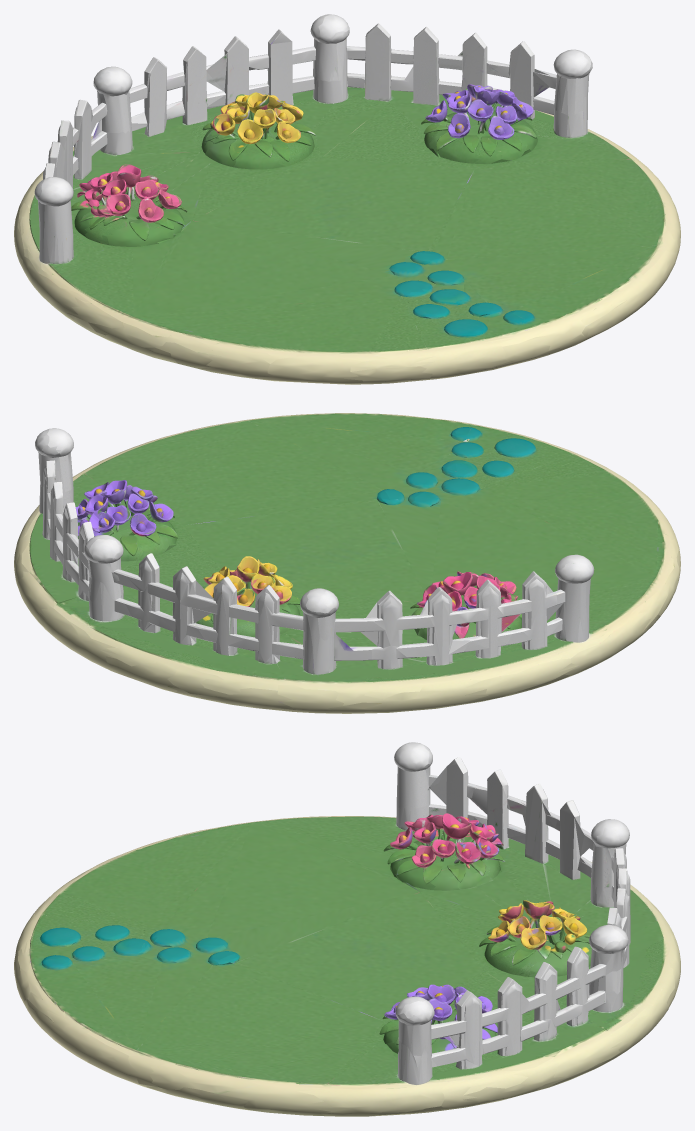
The model's file is sunny-backyard-garden-v1.glb.
3 renders of one model, top to bottom at view 1: azimuth 30°, elevation 25°; view 2: azimuth 150°, elevation 25°; view 3: azimuth 270°, elevation 25°, orthographic.
Size of the model in its own units: 1.9 by 0.3358 by 1.9.
Materials: 1 (1 with a texture image).
